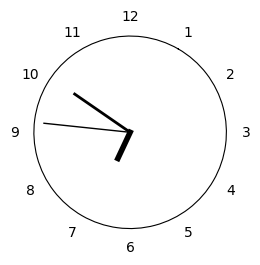12: (122, 9, 139, 23)
circle: (34, 35, 227, 228)
hours: (114, 130, 133, 162)
minutes: (72, 92, 128, 131)
seconds: (43, 122, 129, 132)
